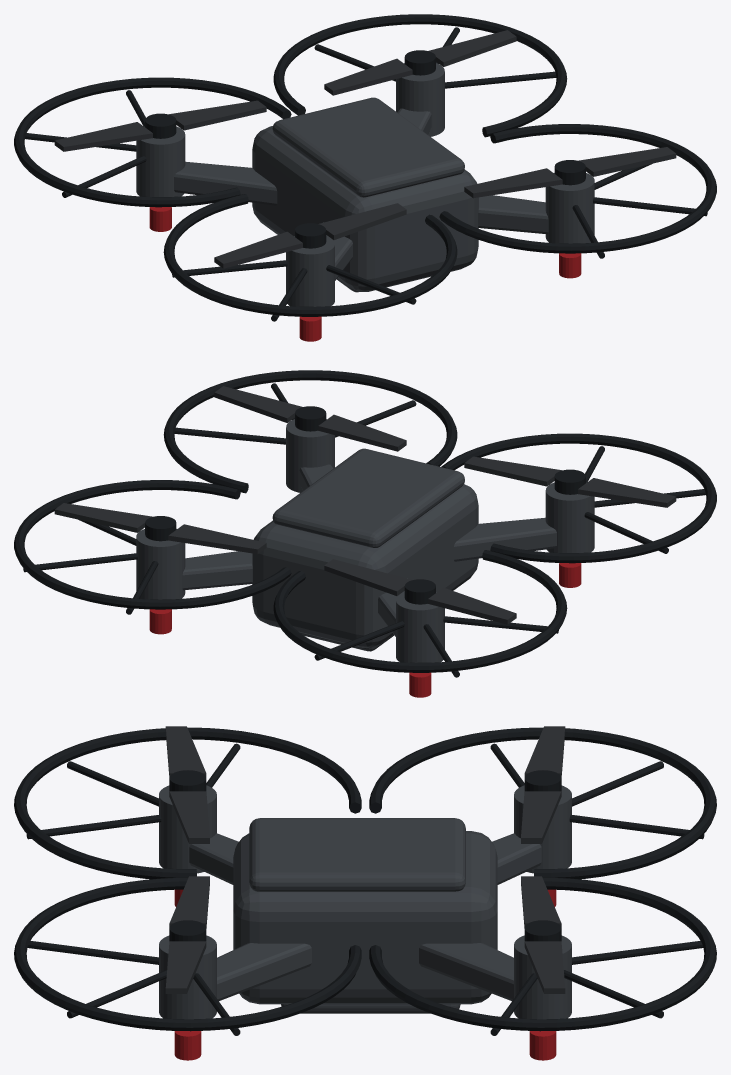
Rendered from drone2_p2_initial_133x133x30.glb.
3 views of the same model, one above another, from view 1: azimuth 30°, elevation 25°; view 2: azimuth 150°, elevation 25°; view 3: azimuth 270°, elevation 25° (orthographic). The views are drawn at different scales.
Visible parts, largest first — view 1: body_core, body_top_shell, guard_fr, guard_rl, guard_fl, guard_rr, rotor_fr_blades, rotor_rl_blades, rotor_fl_blades, rotor_rr_blades, arm_rl, motor_fr (+17 smaller); view 2: body_core, body_top_shell, guard_rr, guard_fl, guard_rl, guard_fr, rotor_rr_blades, rotor_fl_blades, rotor_rl_blades, rotor_fr_blades, arm_fl, motor_rr (+17 smaller); view 3: body_core, body_top_shell, guard_fr, guard_rr, guard_rl, guard_fl, arm_fr, arm_rr, rotor_fr_blades, rotor_rr_blades, rotor_fl_blades, rotor_rl_blades (+21 smaller).
Part boxes in pixels (x1=…): body_core: x1=252, y1=126, x2=478, y2=291; body_top_shell: x1=272, y1=97, x2=464, y2=197; guard_fr: x1=439, y1=124, x2=716, y2=253; guard_rl: x1=14, y1=77, x2=291, y2=207; guard_fl: x1=163, y1=194, x2=457, y2=316; guard_rr: x1=273, y1=14, x2=567, y2=137; rotor_fr_blades: x1=464, y1=147, x2=676, y2=198; rotor_rl_blades: x1=54, y1=100, x2=266, y2=151; rotor_fl_blades: x1=214, y1=203, x2=406, y2=268; rotor_rr_blades: x1=324, y1=30, x2=516, y2=95; arm_rl: x1=174, y1=161, x2=277, y2=205; motor_fr: x1=545, y1=173, x2=594, y2=243; body_core: x1=252, y1=484, x2=478, y2=647; body_top_shell: x1=272, y1=448, x2=464, y2=547; guard_rr: x1=14, y1=480, x2=291, y2=609; guard_fl: x1=441, y1=433, x2=716, y2=563; guard_rl: x1=273, y1=550, x2=567, y2=672; guard_fr: x1=163, y1=370, x2=457, y2=493; rotor_rr_blades: x1=54, y1=503, x2=266, y2=554; rotor_fl_blades: x1=464, y1=456, x2=676, y2=507; rotor_rl_blades: x1=324, y1=559, x2=516, y2=624; rotor_fr_blades: x1=214, y1=386, x2=406, y2=451; arm_fl: x1=453, y1=517, x2=556, y2=561; motor_rr: x1=136, y1=529, x2=185, y2=599; body_core: x1=233, y1=831, x2=497, y2=1004; body_top_shell: x1=249, y1=818, x2=465, y2=891; guard_fr: x1=14, y1=877, x2=361, y2=1031; guard_rr: x1=369, y1=877, x2=716, y2=1031; guard_rl: x1=369, y1=727, x2=716, y2=879; guard_fl: x1=14, y1=727, x2=361, y2=879; arm_fr: x1=217, y1=943, x2=311, y2=1000; arm_rr: x1=419, y1=943, x2=513, y2=1000; rotor_fr_blades: x1=165, y1=876, x2=209, y2=993; rotor_rr_blades: x1=521, y1=876, x2=565, y2=993; rotor_fl_blades: x1=165, y1=726, x2=209, y2=843; rotor_rl_blades: x1=521, y1=726, x2=565, y2=843.
Size of what is drawn, in the model's own units: 0.133 by 0.03 by 0.133.
